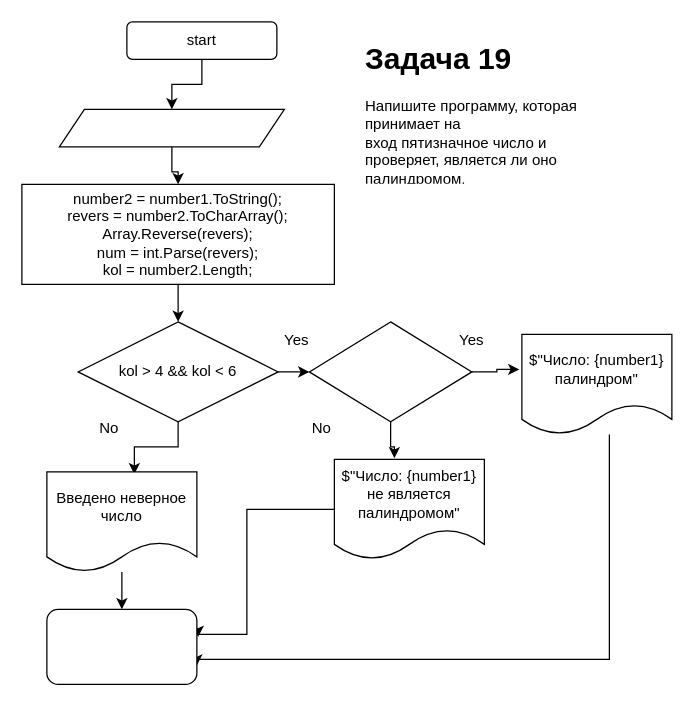
The diagram is 694 pixels wide and 706 high, and some of its shapes have lost their labels. The box of each missing label's shape, as (x1, y1, x2, y2) in pixels:
num == number1: (308, 321, 472, 422)
number1: (58, 108, 284, 147)
stop: (46, 608, 197, 684)
